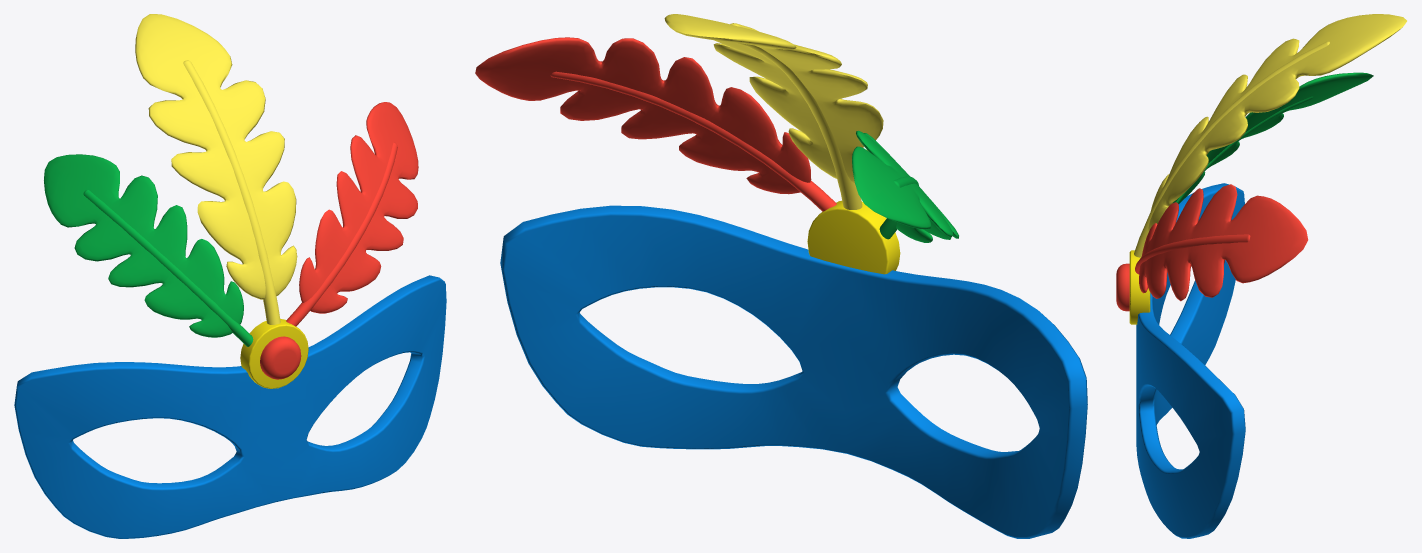
The model's file is Public_12_Mask_Theatre_4.glb.
3 views of the same model, side by side, from view 1: azimuth 30°, elevation 25°; view 2: azimuth 150°, elevation 25°; view 3: azimuth 270°, elevation 25° (orthographic). The views are drawn at different scales.
Parts seen in each view (by area): view 1: Public_12_Mask_Theatre_4; view 2: Public_12_Mask_Theatre_4; view 3: Public_12_Mask_Theatre_4.
Boxes of the visible parts, x1=… form: Public_12_Mask_Theatre_4: x1=14, y1=14, x2=446, y2=538; Public_12_Mask_Theatre_4: x1=475, y1=14, x2=1087, y2=538; Public_12_Mask_Theatre_4: x1=1116, y1=14, x2=1406, y2=538.
Bounding box in the file's own units: 3.9 × 3.58 × 2.13.
1 material, 1 textured.
